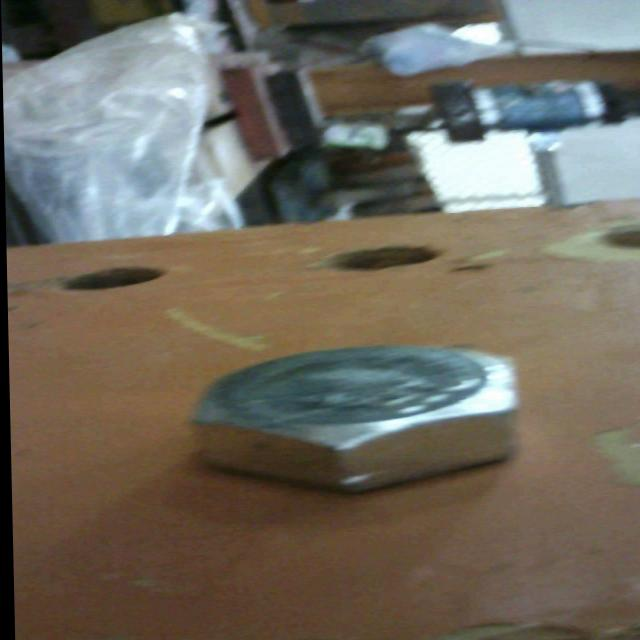Missing bolt: (331, 240, 437, 276), (59, 266, 168, 294), (601, 225, 640, 251)
Regular bolt: (181, 344, 518, 498)
